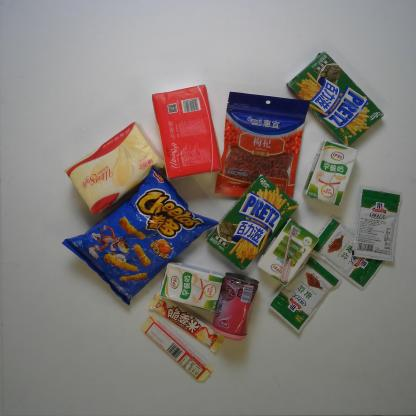Canned Food: (208, 269, 262, 344)
Chocolate: (136, 314, 214, 386), (146, 290, 228, 356)
Dessert: (286, 49, 386, 151), (203, 171, 299, 273)
Dried Fruit: (211, 89, 313, 205)
Milk: (256, 217, 321, 290), (302, 139, 360, 211), (153, 260, 229, 312)
Puffed Food: (60, 166, 221, 307)
Seasoner: (264, 248, 345, 336), (306, 212, 390, 294), (350, 186, 404, 264)
Tissue: (62, 120, 171, 219), (149, 84, 223, 184)
